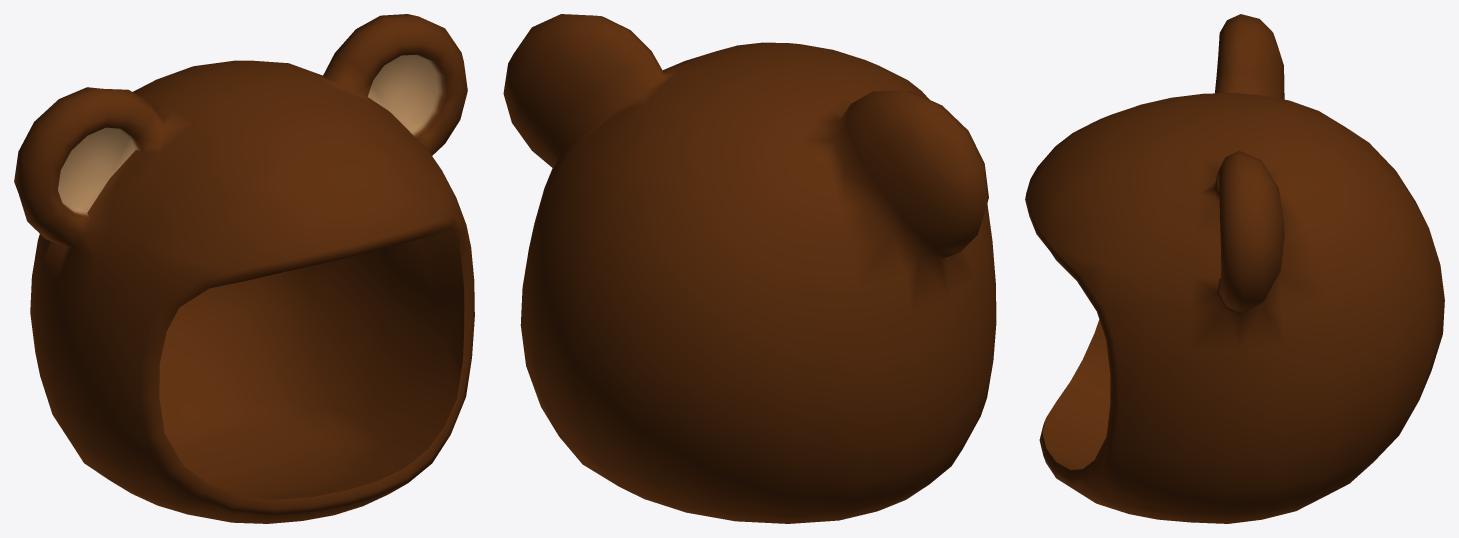
The model's file is CapBangsBear0.glb.
The picture shows the model from 3 angles, left to right: view 1: azimuth 30°, elevation 25°; view 2: azimuth 150°, elevation 25°; view 3: azimuth 270°, elevation 25°; orthographic projection. The views are drawn at different scales.
Parts seen in each view (by area): view 1: Body__mCap; view 2: Body__mCap; view 3: Body__mCap.
Part boxes in pixels (x1,y1,x2,y2): Body__mCap: (14,14,474,523); Body__mCap: (503,14,996,523); Body__mCap: (1025,14,1444,523).
Size of the model in its own units: 8.55 by 7.63 by 7.31.
1 material, 1 textured.
